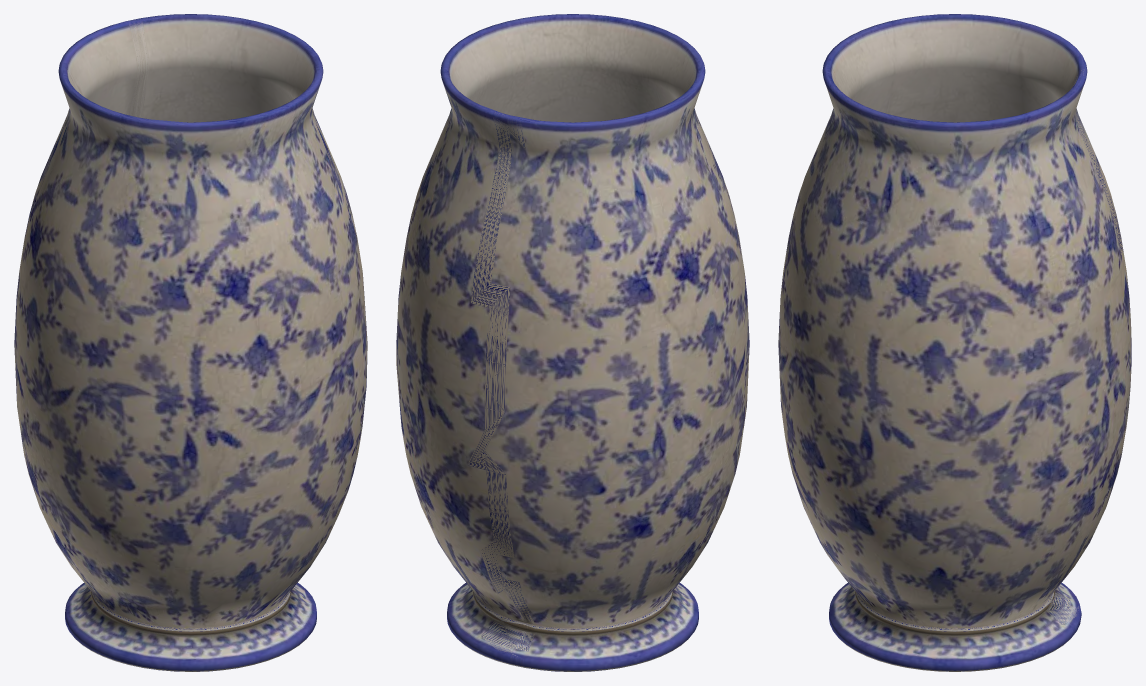
File: antique_ceramic_vase_01.glb
3 views of the same model, side by side, from view 1: azimuth 30°, elevation 25°; view 2: azimuth 150°, elevation 25°; view 3: azimuth 270°, elevation 25° (orthographic).
Visible parts, largest first — view 1: antique_ceramic_vase_01; view 2: antique_ceramic_vase_01; view 3: antique_ceramic_vase_01.
Boxes of the visible parts, x1,y1,x2,y2 form: antique_ceramic_vase_01: (14,14,367,671); antique_ceramic_vase_01: (396,14,749,671); antique_ceramic_vase_01: (778,14,1131,671).
Bounding box in the file's own units: 0.255 × 0.4396 × 0.255.
Materials: 1 (1 with a texture image).
